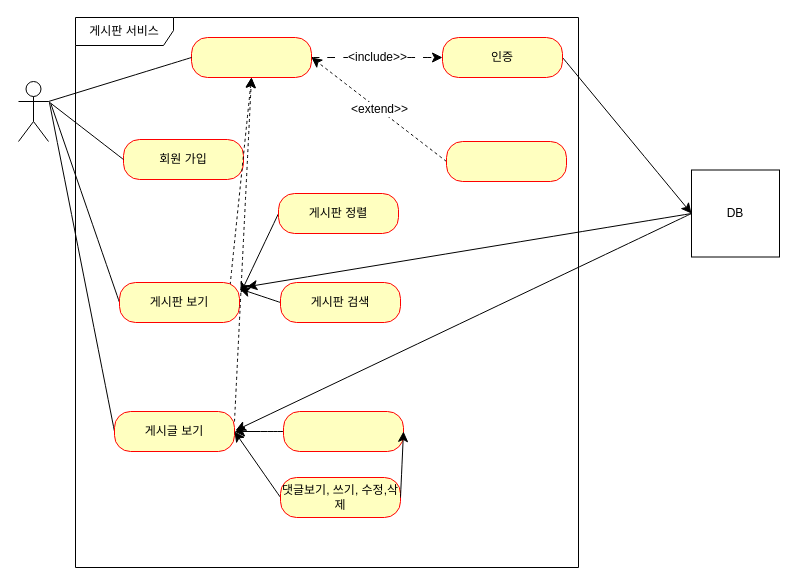
Some shapes in this 797 by 585 pixel diagram are drawn without their labels. The shapes that lost their labels are listed below. From the top down, each one's centre as x and y in pixels, then its label:
At point (251, 57): "회원 로그인".
At point (33, 111): "이용자".
At point (506, 161): "로그인 실패".
At point (343, 431): "게시글 쓰기, 수정, 삭제".
